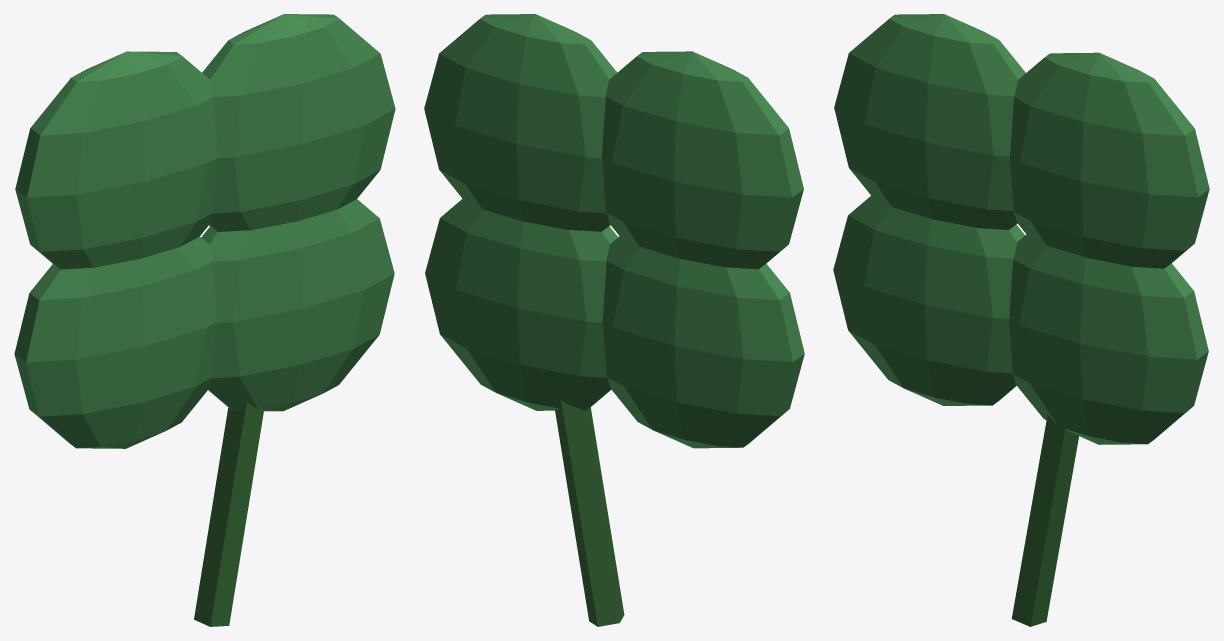
File: lure-lucky.glb
3 renders of one model, left to right at view 1: azimuth 30°, elevation 25°; view 2: azimuth 150°, elevation 25°; view 3: azimuth 330°, elevation 25°, orthographic.
Parts seen in each view (by area): view 1: lure-lucky; view 2: lure-lucky; view 3: lure-lucky.
Part boxes in pixels (x1,y1,x2,y2): lure-lucky: [14, 14, 395, 626]; lure-lucky: [424, 14, 804, 626]; lure-lucky: [833, 14, 1209, 626].
Size of the model in its own units: 0.5651 by 0.8666 by 0.1.
